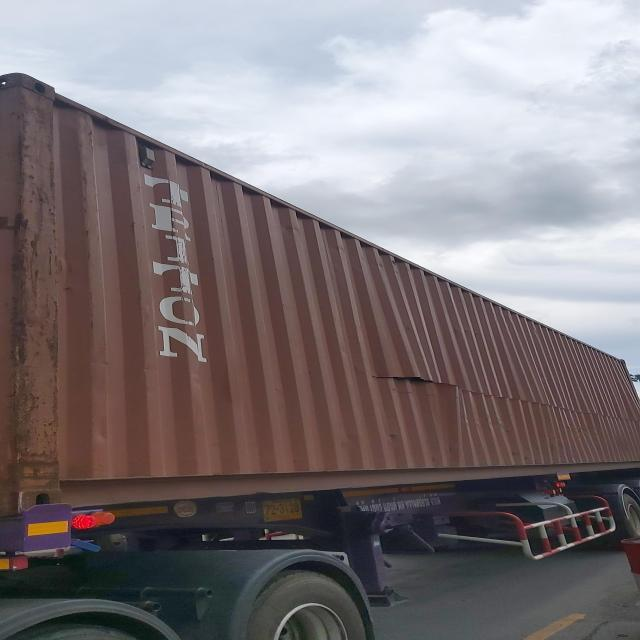hole: (382, 374, 442, 387)
